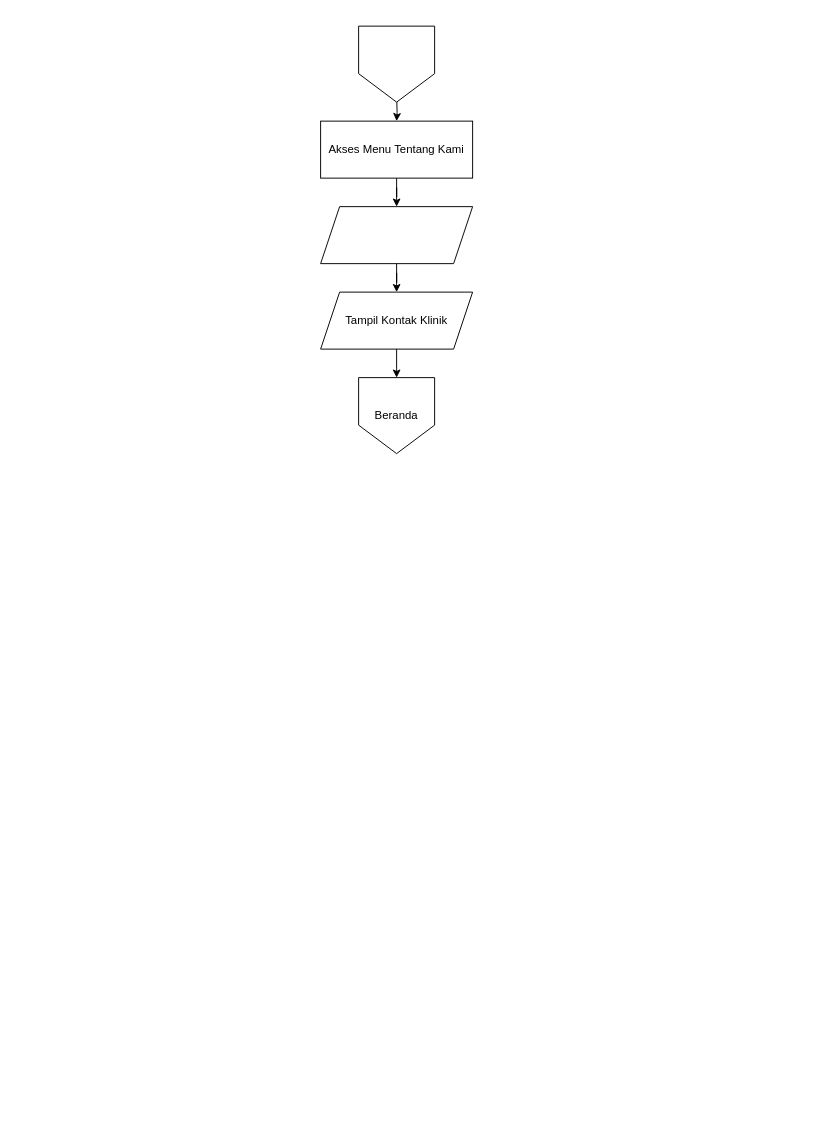
Image size: 818x1143. Some labels were removed from this diagram. The shapes that lost their labels are listed below. From the top down, each one's centre as x and y in pixels, then its label:
(396,63): Tampil tentang
(396,235): Tampil Visi & Misi
